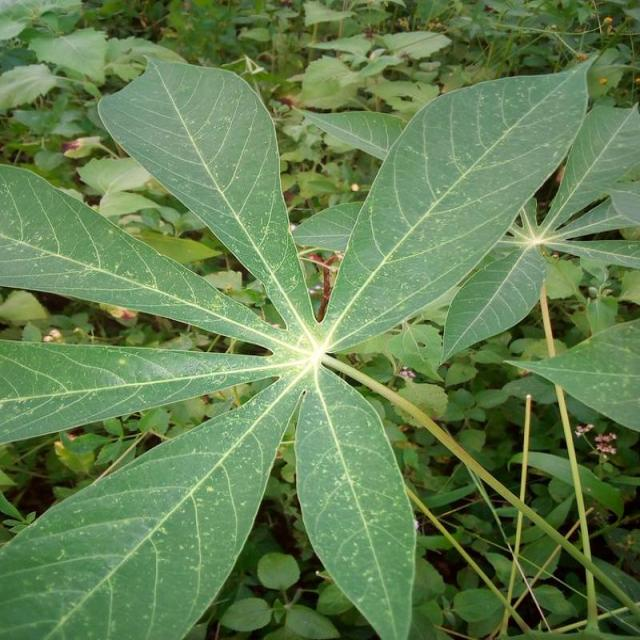cassava leaf: (0, 48, 613, 637), (318, 50, 600, 354), (96, 55, 318, 342), (293, 363, 417, 638)
